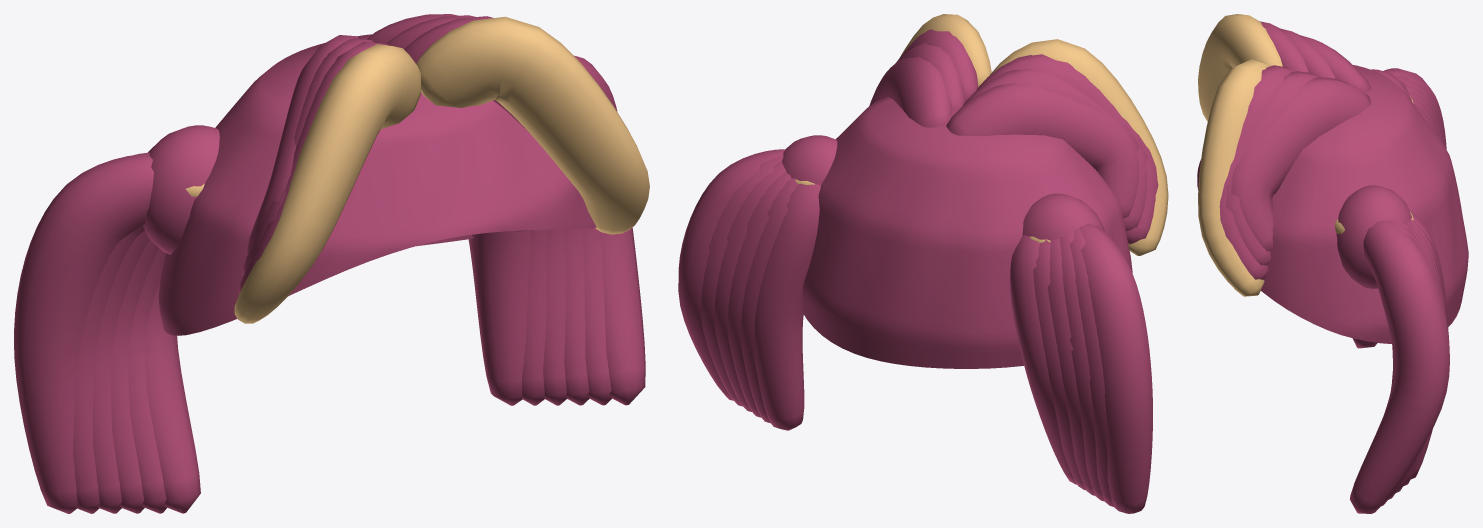
File: studio_twin_pigtails_long.glb
3 renders of one model, left to right at view 1: azimuth 30°, elevation 25°; view 2: azimuth 150°, elevation 25°; view 3: azimuth 270°, elevation 25°, orthographic. The views are drawn at different scales.
Visible parts, largest first — view 1: twin_pigtails; view 2: twin_pigtails; view 3: twin_pigtails.
Part boxes in pixels (x1,y1,x2,y2): twin_pigtails: (14,14,649,513); twin_pigtails: (678,14,1168,513); twin_pigtails: (1197,14,1468,513).
Size of the model in its own units: 0.7384 by 0.568 by 0.3744.
